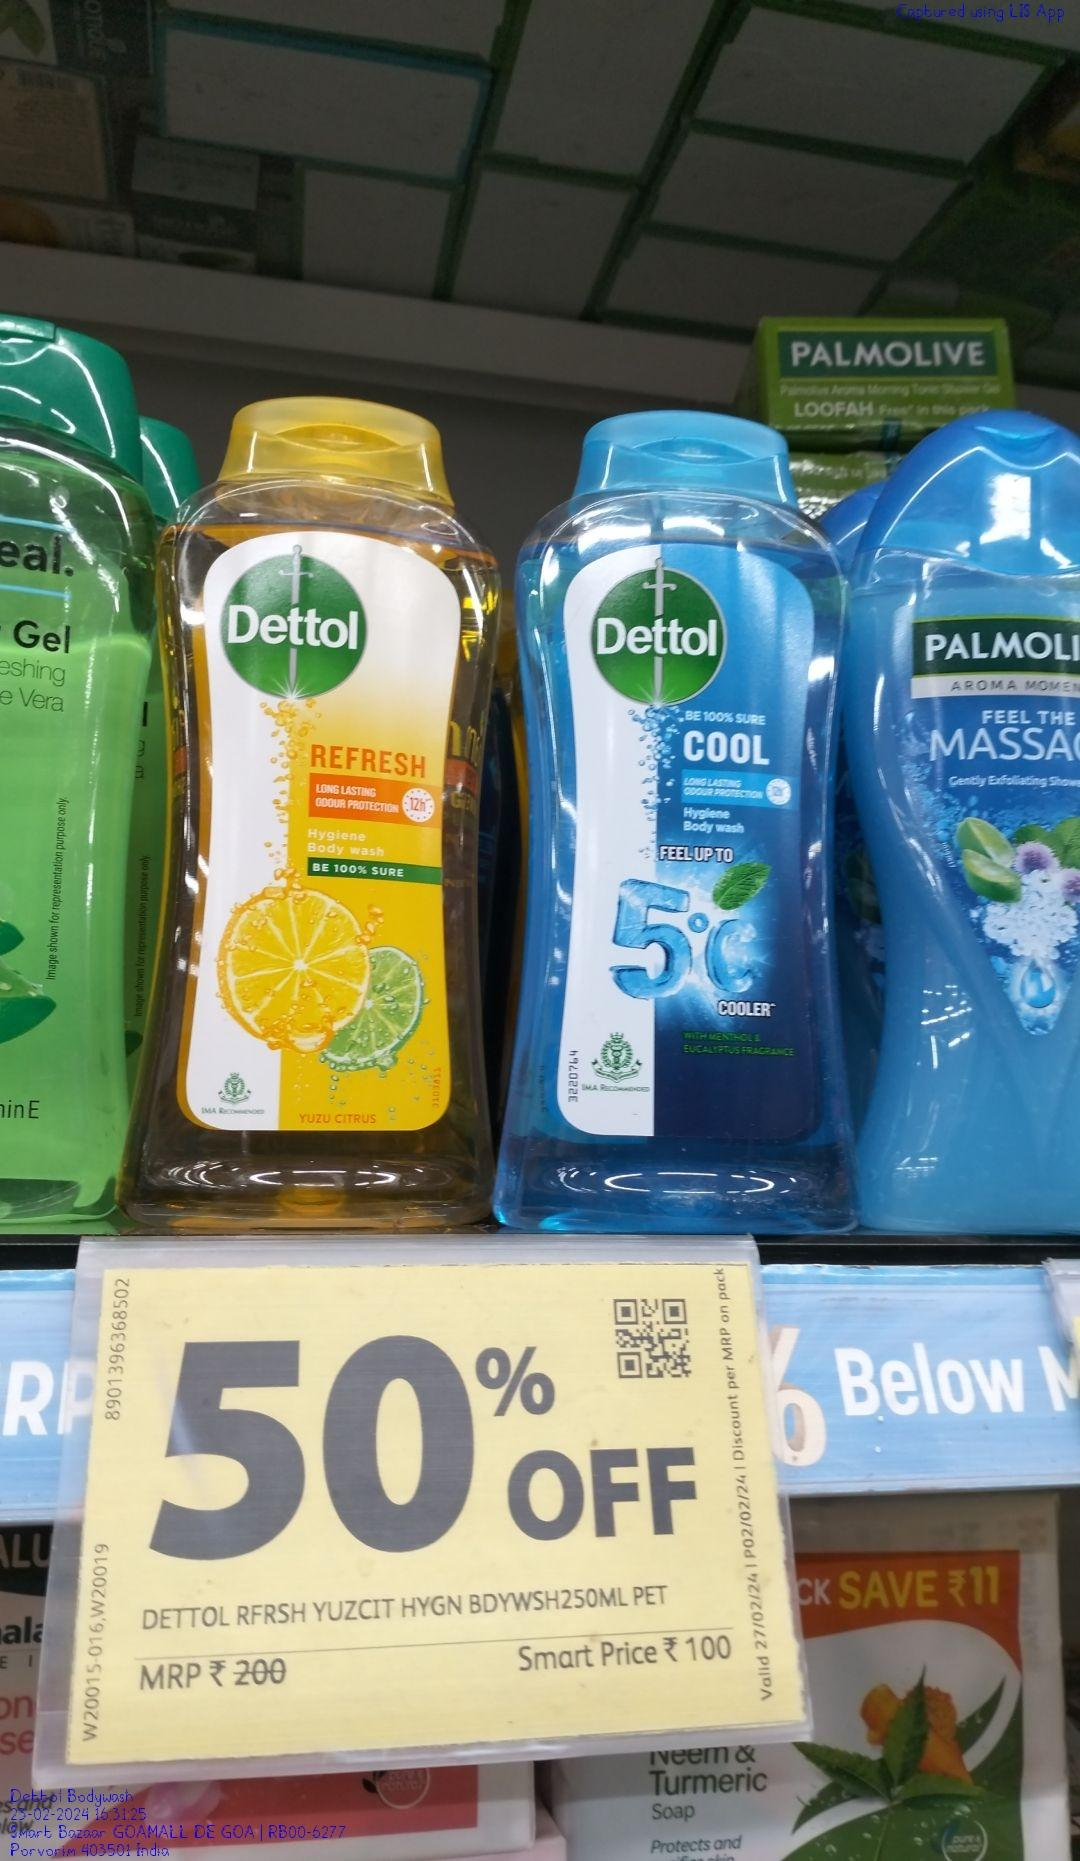Dettol_Bodywash_Cool: (516, 400, 855, 1240)
Dettol_Bodywash_Refresh: (150, 400, 500, 1235)
Palmolive_Aroma_Moments_Feel_The_Massage_Shower_Gel_250ML: (860, 395, 1080, 1240)
